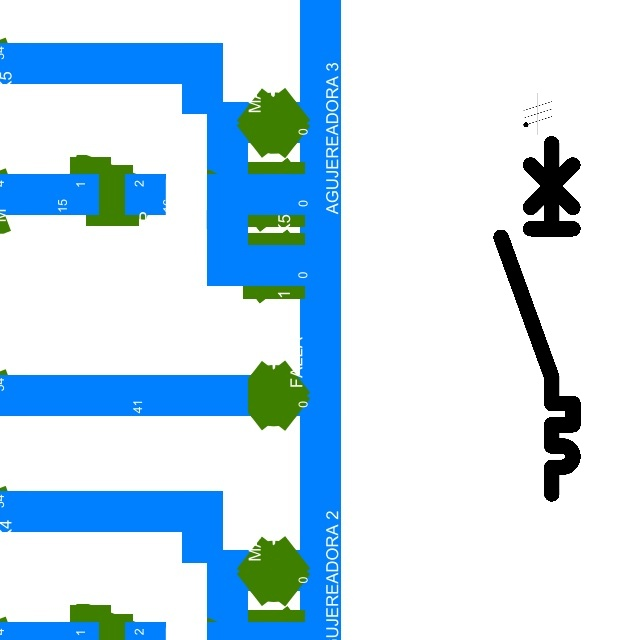interruptor_termomagnetico: (492, 134, 582, 502)
